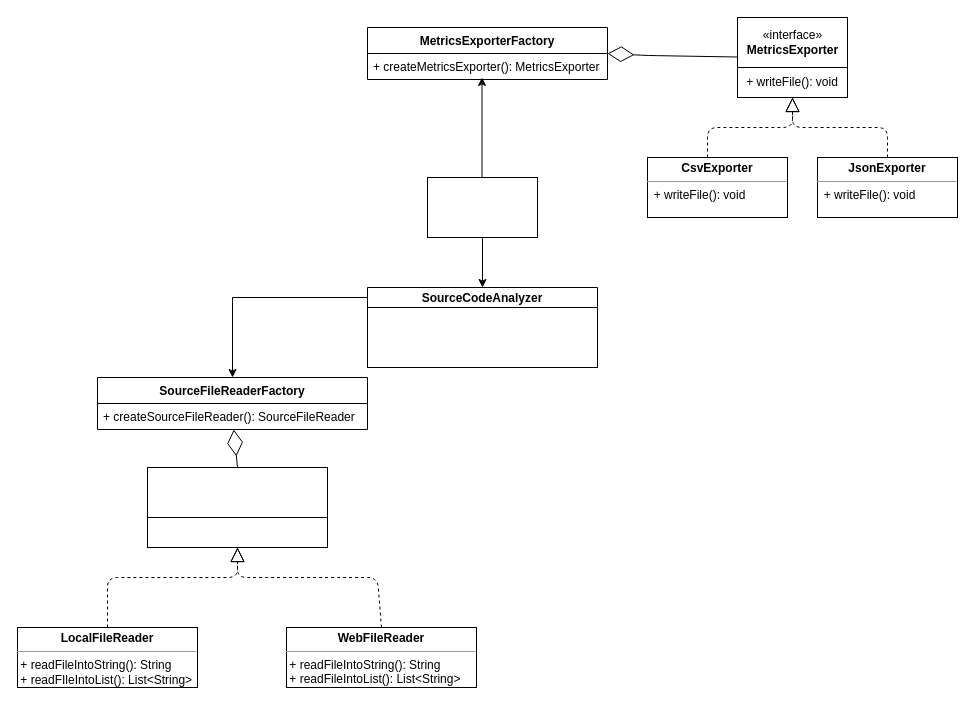
This 975x705 diagram has some shape labels left out. The centre of each missing label's shape, as x and y in pixels:
"+ caculateNOM(): int + calculateNOC(): int + calculateLOC(): int" goes at point 482,337.
"+ readFileIntoString(): String + readFIleIntoList(): List<String>" goes at point 237,532.
"DemoClient" goes at point 482,207.
"«interface» SourceFileReader" goes at point 237,499.
